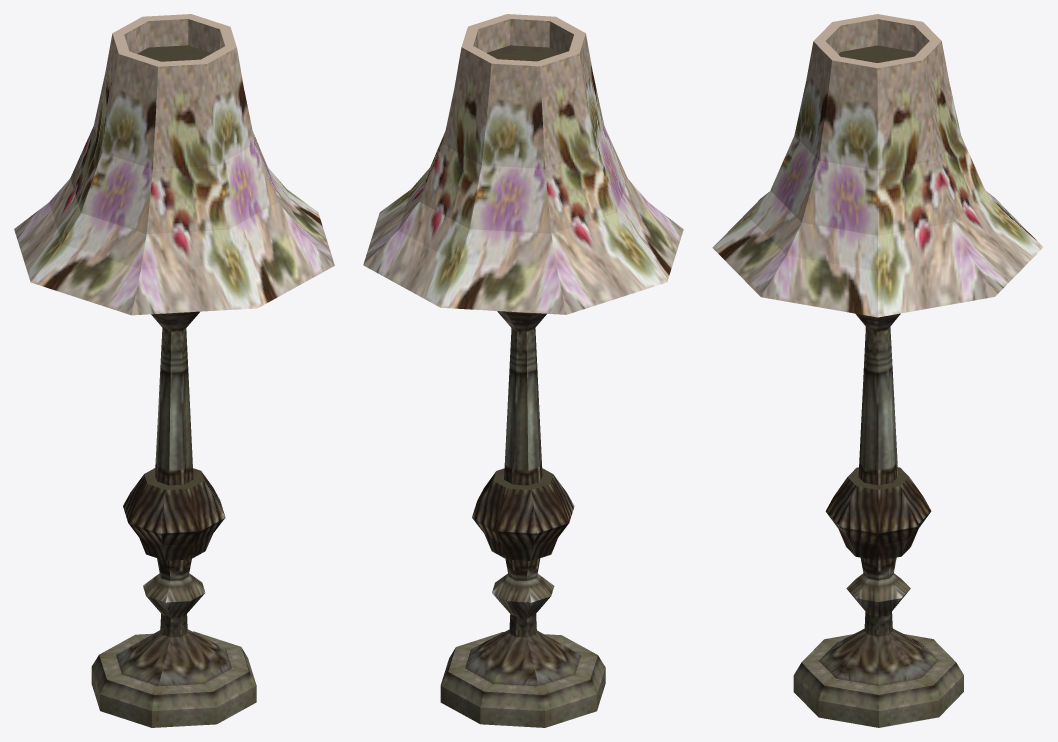
File: lamp.fbx
3 renders of one model, left to right at view 1: azimuth 30°, elevation 25°; view 2: azimuth 150°, elevation 25°; view 3: azimuth 270°, elevation 25°, orthographic.
Parts seen in each view (by area): view 1: Mesh1; view 2: Mesh1; view 3: Mesh1.
Part boxes in pixels (x1,y1,x2,y2): Mesh1: [14, 14, 334, 727]; Mesh1: [363, 14, 683, 727]; Mesh1: [712, 14, 1043, 727].
Bounding box in the file's own units: 67.11 × 146 × 67.11.
